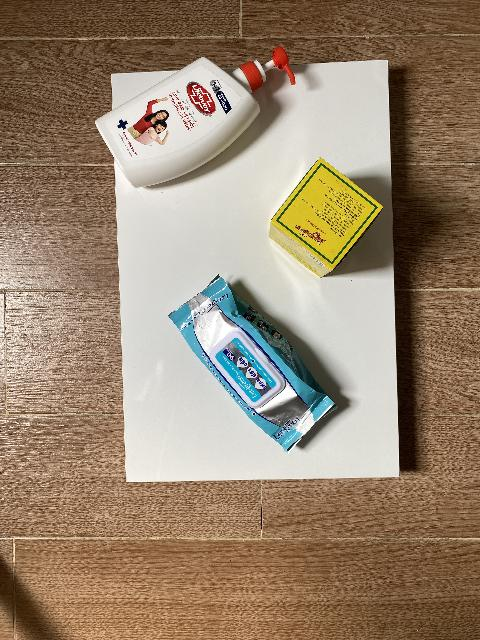Let-green_alcohol_wipes: (169, 275, 338, 453)
life-buoy: (95, 47, 294, 188)
luong_kho: (268, 158, 383, 278)
